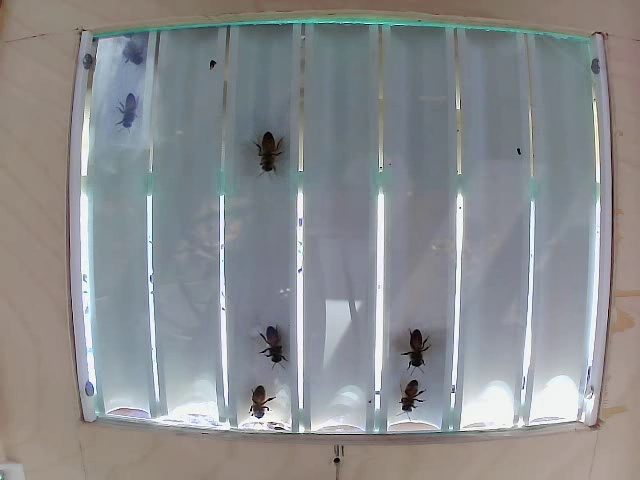bee: (239, 320, 313, 368), (247, 117, 301, 177), (239, 371, 292, 422), (405, 321, 447, 367), (395, 363, 427, 414), (117, 100, 142, 136)
